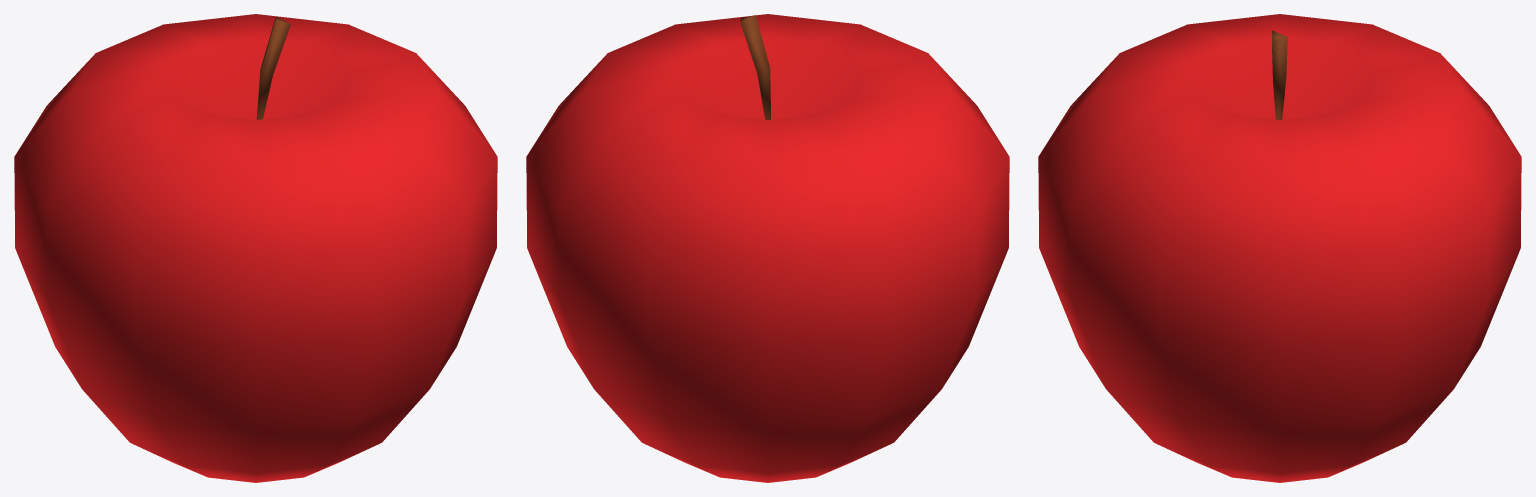
File: apple.fbx
3 renders of one model, left to right at view 1: azimuth 30°, elevation 25°; view 2: azimuth 150°, elevation 25°; view 3: azimuth 270°, elevation 25°, orthographic.
Visible parts, largest first — view 1: jablko_Sphere; view 2: jablko_Sphere; view 3: jablko_Sphere.
Part boxes in pixels (<box>): jablko_Sphere: <box>14,14,497,482</box>; jablko_Sphere: <box>526,14,1009,482</box>; jablko_Sphere: <box>1038,14,1521,482</box>.
Bounding box in the file's own units: 1.7 × 1.63 × 1.7.
